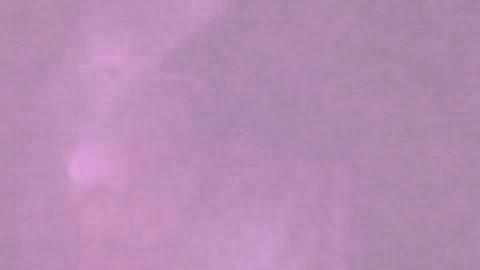tomato: (1, 118, 210, 268), (210, 136, 402, 268), (402, 73, 477, 268)
